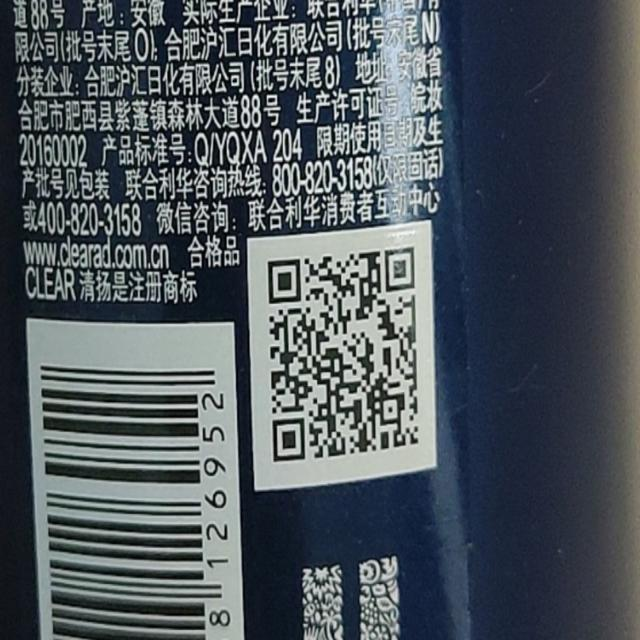qr_code: (267, 247, 421, 463)
